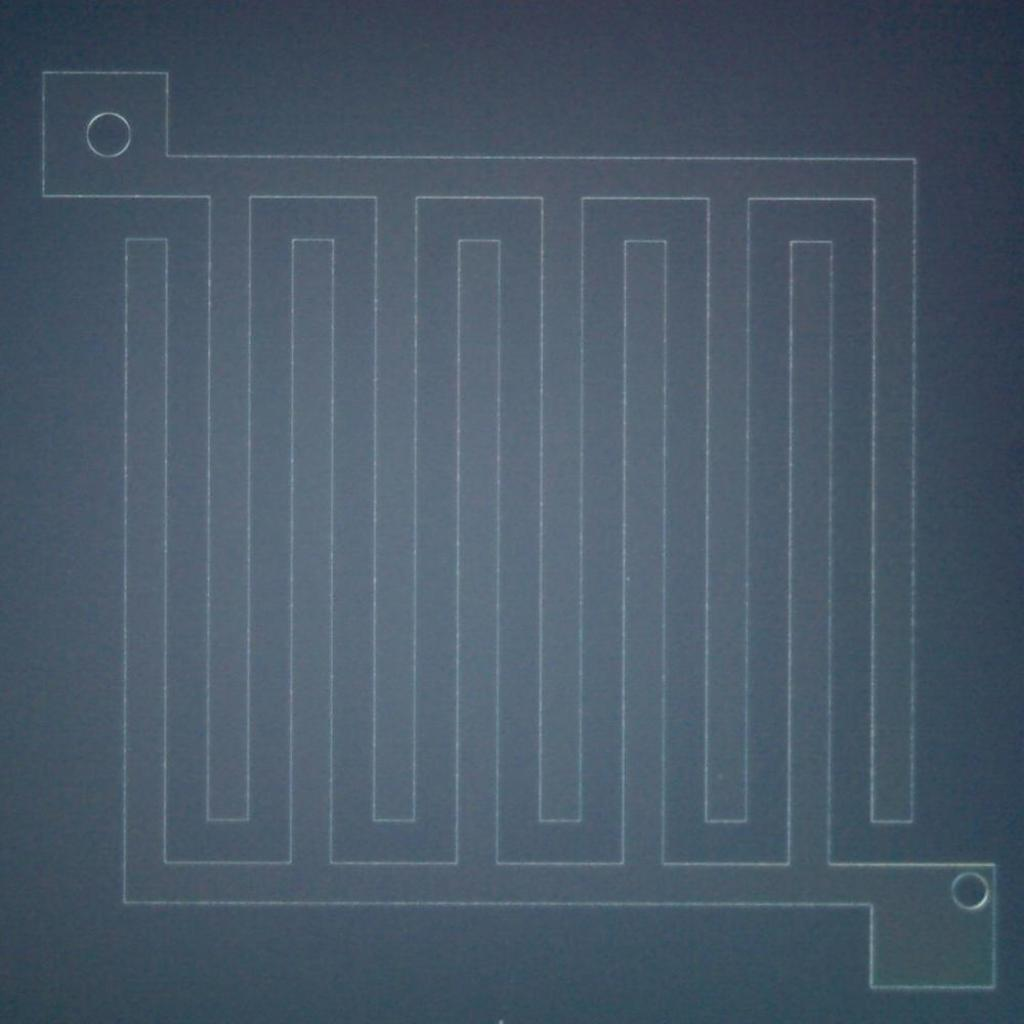dot: (500, 1020, 504, 1024)
